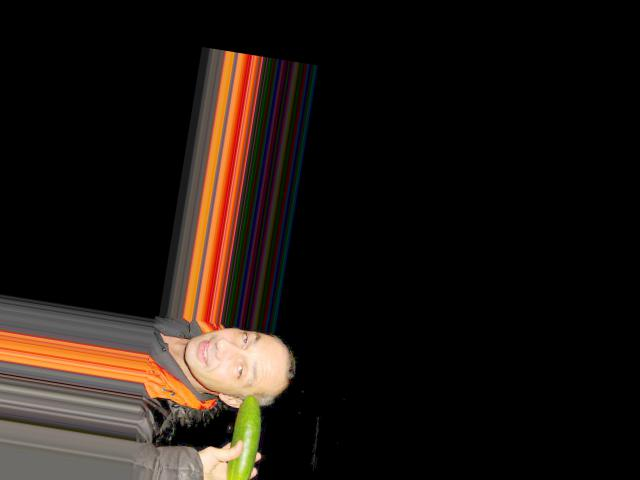cucumber: (224, 392, 265, 480)
